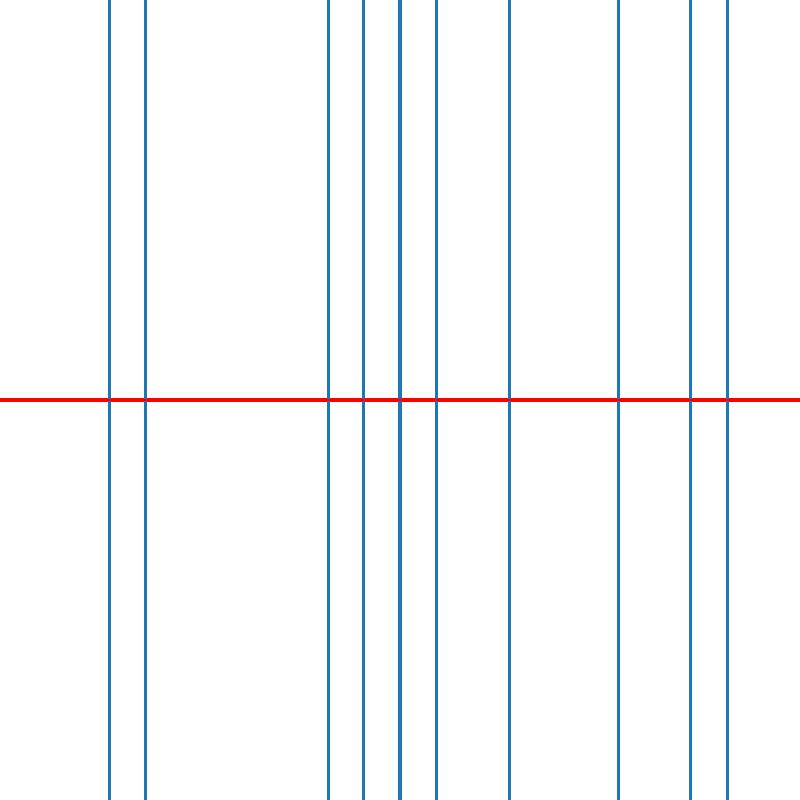root: (432, 396, 440, 404), (141, 396, 149, 404), (687, 396, 694, 404), (396, 396, 403, 404), (614, 396, 621, 404), (360, 396, 367, 404), (105, 396, 112, 404), (323, 396, 330, 404), (505, 396, 512, 404), (723, 396, 730, 404)
